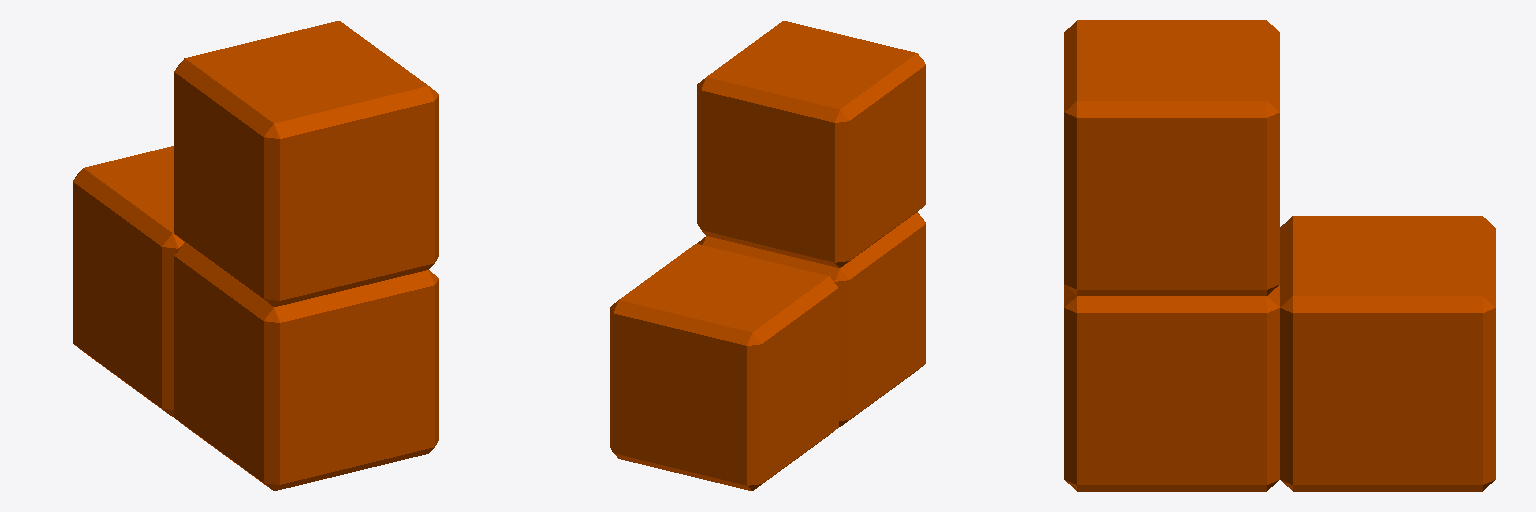
URDF robot description (obj_1):
<robot name="obj_1" version="1.0">
  <link name="obj_1_link">
    <collision name="obj_1-collision.001">
      <origin rpy="0.00000 -1.57080 0.00000" xyz="-0.43492 0.23919 0.06442"/>
      <geometry>
        <mesh filename="../meshes/obj/obj_1-collision.016.obj" scale="1.00000 1.00000 1.00000"/>
      </geometry>
    </collision>
    <collision name="obj_1-collision.002">
      <origin rpy="0.00000 -1.57080 0.00000" xyz="-0.43492 0.11419 0.06442"/>
      <geometry>
        <mesh filename="../meshes/obj/obj_1-collision.017.obj" scale="1.00000 1.00000 1.00000"/>
      </geometry>
    </collision>
    <collision name="obj_1-collision.003">
      <origin rpy="1.57080 0.00000 -3.14159" xyz="-0.37242 0.30169 0.06442"/>
      <geometry>
        <mesh filename="../meshes/obj/obj_1-collision.018.obj" scale="1.00000 1.00000 1.00000"/>
      </geometry>
    </collision>
    <collision name="obj_1-collision.004">
      <origin rpy="-1.57080 0.00000 3.14159" xyz="-0.37242 0.05169 0.06442"/>
      <geometry>
        <mesh filename="../meshes/obj/obj_1-collision.019.obj" scale="1.00000 1.00000 1.00000"/>
      </geometry>
    </collision>
    <collision name="obj_1-collision.005">
      <origin rpy="-0.00000 1.57080 0.00000" xyz="-0.30992 0.11419 0.06442"/>
      <geometry>
        <mesh filename="../meshes/obj/obj_1-collision.020.obj" scale="1.00000 1.00000 1.00000"/>
      </geometry>
    </collision>
    <collision name="obj_1-collision.006">
      <origin rpy="-0.00000 1.57080 0.00000" xyz="-0.30992 0.23919 0.06442"/>
      <geometry>
        <mesh filename="../meshes/obj/obj_1-collision.021.obj" scale="1.00000 1.00000 1.00000"/>
      </geometry>
    </collision>
    <collision name="obj_1-collision.007">
      <origin rpy="-3.14159 0.00000 -1.57080" xyz="-0.37242 0.23919 0.00192"/>
      <geometry>
        <mesh filename="../meshes/obj/obj_1-collision.022.obj" scale="1.00000 1.00000 1.00000"/>
      </geometry>
    </collision>
    <collision name="obj_1-collision.008">
      <origin rpy="-3.14159 0.00000 -1.57080" xyz="-0.37242 0.11419 0.00192"/>
      <geometry>
        <mesh filename="../meshes/obj/obj_1-collision.023.obj" scale="1.00000 1.00000 1.00000"/>
      </geometry>
    </collision>
    <collision name="obj_1-collision.009">
      <origin rpy="-0.00000 0.00000 1.57080" xyz="-0.37242 0.23919 0.12692"/>
      <geometry>
        <mesh filename="../meshes/obj/obj_1-collision.024.obj" scale="1.00000 1.00000 1.00000"/>
      </geometry>
    </collision>
    <collision name="obj_1-collision.010">
      <origin rpy="-0.78540 -0.00000 1.57080" xyz="-0.43117 0.23919 0.12317"/>
      <geometry>
        <mesh filename="../meshes/obj/obj_1-collision.025.obj" scale="1.00000 1.00000 1.00000"/>
      </geometry>
    </collision>
    <collision name="obj_1-collision.011">
      <origin rpy="-0.00000 0.78540 1.57080" xyz="-0.37242 0.29794 0.12317"/>
      <geometry>
        <mesh filename="../meshes/obj/obj_1-collision.026.obj" scale="1.00000 1.00000 1.00000"/>
      </geometry>
    </collision>
    <collision name="obj_1-collision.012">
      <origin rpy="0.78540 0.00000 1.57080" xyz="-0.31367 0.23919 0.12317"/>
      <geometry>
        <mesh filename="../meshes/obj/obj_1-collision.027.obj" scale="1.00000 1.00000 1.00000"/>
      </geometry>
    </collision>
    <collision name="obj_1-collision.013">
      <origin rpy="-0.00000 -0.78540 1.57080" xyz="-0.37242 0.18044 0.12317"/>
      <geometry>
        <mesh filename="../meshes/obj/obj_1-collision.028.obj" scale="1.00000 1.00000 1.00000"/>
      </geometry>
    </collision>
    <collision name="obj_1-collision.014">
      <origin rpy="-1.57080 0.00000 -2.35619" xyz="-0.31367 0.18044 0.06442"/>
      <geometry>
        <mesh filename="../meshes/obj/obj_1-collision.029.obj" scale="1.00000 1.00000 1.00000"/>
      </geometry>
    </collision>
    <collision name="obj_1-collision.015">
      <origin rpy="1.57080 0.00000 2.35619" xyz="-0.31367 0.29794 0.06442"/>
      <geometry>
        <mesh filename="../meshes/obj/obj_1-collision.030.obj" scale="1.00000 1.00000 1.00000"/>
      </geometry>
    </collision>
    <collision name="obj_1-collision.016">
      <origin rpy="1.57080 0.00000 -2.35619" xyz="-0.43117 0.29794 0.06442"/>
      <geometry>
        <mesh filename="../meshes/obj/obj_1-collision.031.obj" scale="1.00000 1.00000 1.00000"/>
      </geometry>
    </collision>
    <collision name="obj_1-collision.017">
      <origin rpy="-1.57080 0.00000 2.35619" xyz="-0.43117 0.18044 0.06442"/>
      <geometry>
        <mesh filename="../meshes/obj/obj_1-collision.032.obj" scale="1.00000 1.00000 1.00000"/>
      </geometry>
    </collision>
    <collision name="obj_1-collision.018">
      <origin rpy="2.35619 0.00000 -1.57080" xyz="-0.43117 0.23919 0.00567"/>
      <geometry>
        <mesh filename="../meshes/obj/obj_1-collision.033.obj" scale="1.00000 1.00000 1.00000"/>
      </geometry>
    </collision>
    <collision name="obj_1-collision.019">
      <origin rpy="-3.14159 0.78540 -1.57080" xyz="-0.37242 0.29794 0.00567"/>
      <geometry>
        <mesh filename="../meshes/obj/obj_1-collision.034.obj" scale="1.00000 1.00000 1.00000"/>
      </geometry>
    </collision>
    <collision name="obj_1-collision.020">
      <origin rpy="2.35619 -0.00000 1.57080" xyz="-0.31367 0.23919 0.00567"/>
      <geometry>
        <mesh filename="../meshes/obj/obj_1-collision.035.obj" scale="1.00000 1.00000 1.00000"/>
      </geometry>
    </collision>
    <collision name="obj_1-collision.021">
      <origin rpy="-3.14159 -0.78540 -1.57080" xyz="-0.37242 0.18044 0.00567"/>
      <geometry>
        <mesh filename="../meshes/obj/obj_1-collision.036.obj" scale="1.00000 1.00000 1.00000"/>
      </geometry>
    </collision>
    <collision name="obj_1-collision.022">
      <origin rpy="-2.35619 -0.00000 -1.57080" xyz="-0.31367 0.11419 0.00567"/>
      <geometry>
        <mesh filename="../meshes/obj/obj_1-collision.037.obj" scale="1.00000 1.00000 1.00000"/>
      </geometry>
    </collision>
    <collision name="obj_1-collision.023">
      <origin rpy="-3.14159 -0.78540 -1.57080" xyz="-0.37242 0.05544 0.00567"/>
      <geometry>
        <mesh filename="../meshes/obj/obj_1-collision.038.obj" scale="1.00000 1.00000 1.00000"/>
      </geometry>
    </collision>
    <collision name="obj_1-collision.024">
      <origin rpy="2.35619 0.00000 -1.57080" xyz="-0.43117 0.11419 0.00567"/>
      <geometry>
        <mesh filename="../meshes/obj/obj_1-collision.039.obj" scale="1.00000 1.00000 1.00000"/>
      </geometry>
    </collision>
    <collision name="obj_1-collision.025">
      <origin rpy="-3.14159 0.78540 -1.57080" xyz="-0.37242 0.17294 0.00567"/>
      <geometry>
        <mesh filename="../meshes/obj/obj_1-collision.040.obj" scale="1.00000 1.00000 1.00000"/>
      </geometry>
    </collision>
    <collision name="obj_1-collision.026">
      <origin rpy="-2.35619 1.57080 0.00000" xyz="-0.43117 0.17294 0.06442"/>
      <geometry>
        <mesh filename="../meshes/obj/obj_1-collision.041.obj" scale="1.00000 1.00000 1.00000"/>
      </geometry>
    </collision>
    <collision name="obj_1-collision.027">
      <origin rpy="-1.57080 0.00000 2.35619" xyz="-0.43117 0.05544 0.06442"/>
      <geometry>
        <mesh filename="../meshes/obj/obj_1-collision.042.obj" scale="1.00000 1.00000 1.00000"/>
      </geometry>
    </collision>
    <collision name="obj_1-collision.028">
      <origin rpy="-1.57080 0.00000 -2.35619" xyz="-0.31367 0.05544 0.06442"/>
      <geometry>
        <mesh filename="../meshes/obj/obj_1-collision.043.obj" scale="1.00000 1.00000 1.00000"/>
      </geometry>
    </collision>
    <collision name="obj_1-collision.029">
      <origin rpy="1.57080 0.00000 2.35619" xyz="-0.31367 0.17294 0.06442"/>
      <geometry>
        <mesh filename="../meshes/obj/obj_1-collision.044.obj" scale="1.00000 1.00000 1.00000"/>
      </geometry>
    </collision>
    <collision name="obj_1-collision.030">
      <origin rpy="0.78540 0.00000 1.57080" xyz="-0.31367 0.11419 0.12317"/>
      <geometry>
        <mesh filename="../meshes/obj/obj_1-collision.045.obj" scale="1.00000 1.00000 1.00000"/>
      </geometry>
    </collision>
    <collision name="obj_1-collision.031">
      <origin rpy="-0.00000 -0.78540 1.57080" xyz="-0.37242 0.05544 0.12317"/>
      <geometry>
        <mesh filename="../meshes/obj/obj_1-collision.046.obj" scale="1.00000 1.00000 1.00000"/>
      </geometry>
    </collision>
    <collision name="obj_1-collision.032">
      <origin rpy="-0.78540 -0.00000 1.57080" xyz="-0.43117 0.11419 0.12317"/>
      <geometry>
        <mesh filename="../meshes/obj/obj_1-collision.047.obj" scale="1.00000 1.00000 1.00000"/>
      </geometry>
    </collision>
    <collision name="obj_1-collision.033">
      <origin rpy="-0.00000 0.78540 1.57080" xyz="-0.37242 0.17294 0.12317"/>
      <geometry>
        <mesh filename="../meshes/obj/obj_1-collision.048.obj" scale="1.00000 1.00000 1.00000"/>
      </geometry>
    </collision>
    <collision name="obj_1-collision.034">
      <origin rpy="2.35619 0.00000 -1.57080" xyz="-0.43117 0.11419 0.13067"/>
      <geometry>
        <mesh filename="../meshes/obj/obj_1-collision.049.obj" scale="1.00000 1.00000 1.00000"/>
      </geometry>
    </collision>
    <collision name="obj_1-collision.035">
      <origin rpy="-3.14159 -0.78540 -1.57080" xyz="-0.37242 0.05544 0.13067"/>
      <geometry>
        <mesh filename="../meshes/obj/obj_1-collision.050.obj" scale="1.00000 1.00000 1.00000"/>
      </geometry>
    </collision>
    <collision name="obj_1-collision.036">
      <origin rpy="-2.35619 -0.00000 -1.57080" xyz="-0.31367 0.11419 0.13067"/>
      <geometry>
        <mesh filename="../meshes/obj/obj_1-collision.051.obj" scale="1.00000 1.00000 1.00000"/>
      </geometry>
    </collision>
    <collision name="obj_1-collision.037">
      <origin rpy="-3.14159 0.78540 -1.57080" xyz="-0.37242 0.17294 0.13067"/>
      <geometry>
        <mesh filename="../meshes/obj/obj_1-collision.052.obj" scale="1.00000 1.00000 1.00000"/>
      </geometry>
    </collision>
    <collision name="obj_1-collision.038">
      <origin rpy="0.00000 -1.57080 0.00000" xyz="-0.43492 0.11419 0.18942"/>
      <geometry>
        <mesh filename="../meshes/obj/obj_1-collision.053.obj" scale="1.00000 1.00000 1.00000"/>
      </geometry>
    </collision>
    <collision name="obj_1-collision.039">
      <origin rpy="-1.57080 0.00000 3.14159" xyz="-0.37242 0.05169 0.18942"/>
      <geometry>
        <mesh filename="../meshes/obj/obj_1-collision.054.obj" scale="1.00000 1.00000 1.00000"/>
      </geometry>
    </collision>
    <collision name="obj_1-collision.040">
      <origin rpy="-0.00000 1.57080 0.00000" xyz="-0.30992 0.11419 0.18942"/>
      <geometry>
        <mesh filename="../meshes/obj/obj_1-collision.055.obj" scale="1.00000 1.00000 1.00000"/>
      </geometry>
    </collision>
    <collision name="obj_1-collision.041">
      <origin rpy="1.57080 0.00000 -3.14159" xyz="-0.37242 0.17669 0.18942"/>
      <geometry>
        <mesh filename="../meshes/obj/obj_1-collision.056.obj" scale="1.00000 1.00000 1.00000"/>
      </geometry>
    </collision>
    <collision name="obj_1-collision.042">
      <origin rpy="-0.00000 0.00000 1.57080" xyz="-0.37242 0.11419 0.25192"/>
      <geometry>
        <mesh filename="../meshes/obj/obj_1-collision.057.obj" scale="1.00000 1.00000 1.00000"/>
      </geometry>
    </collision>
    <collision name="obj_1-collision.043">
      <origin rpy="-1.57080 -0.00000 -0.78540" xyz="-0.31367 0.17294 0.18942"/>
      <geometry>
        <mesh filename="../meshes/obj/obj_1-collision.058.obj" scale="1.00000 1.00000 1.00000"/>
      </geometry>
    </collision>
    <collision name="obj_1-collision.044">
      <origin rpy="1.57080 0.00000 -2.35619" xyz="-0.43117 0.17294 0.18942"/>
      <geometry>
        <mesh filename="../meshes/obj/obj_1-collision.059.obj" scale="1.00000 1.00000 1.00000"/>
      </geometry>
    </collision>
    <collision name="obj_1-collision.045">
      <origin rpy="-1.57080 0.00000 2.35619" xyz="-0.43117 0.05544 0.18942"/>
      <geometry>
        <mesh filename="../meshes/obj/obj_1-collision.060.obj" scale="1.00000 1.00000 1.00000"/>
      </geometry>
    </collision>
    <collision name="obj_1-collision.046">
      <origin rpy="-1.57080 0.00000 -2.35619" xyz="-0.31367 0.05544 0.18942"/>
      <geometry>
        <mesh filename="../meshes/obj/obj_1-collision.061.obj" scale="1.00000 1.00000 1.00000"/>
      </geometry>
    </collision>
    <collision name="obj_1-collision.047">
      <origin rpy="-0.00000 0.78540 1.57080" xyz="-0.37242 0.17294 0.24817"/>
      <geometry>
        <mesh filename="../meshes/obj/obj_1-collision.062.obj" scale="1.00000 1.00000 1.00000"/>
      </geometry>
    </collision>
    <collision name="obj_1-collision.048">
      <origin rpy="-0.78540 -0.00000 1.57080" xyz="-0.43117 0.11419 0.24817"/>
      <geometry>
        <mesh filename="../meshes/obj/obj_1-collision.063.obj" scale="1.00000 1.00000 1.00000"/>
      </geometry>
    </collision>
    <collision name="obj_1-collision.049">
      <origin rpy="-0.00000 -0.78540 1.57080" xyz="-0.37242 0.05544 0.24817"/>
      <geometry>
        <mesh filename="../meshes/obj/obj_1-collision.064.obj" scale="1.00000 1.00000 1.00000"/>
      </geometry>
    </collision>
    <collision name="obj_1-collision.050">
      <origin rpy="0.78540 0.00000 1.57080" xyz="-0.31367 0.11419 0.24817"/>
      <geometry>
        <mesh filename="../meshes/obj/obj_1-collision.065.obj" scale="1.00000 1.00000 1.00000"/>
      </geometry>
    </collision>
    <collision name="obj_1-collision.051">
      <origin rpy="0.00000 -1.57080 0.00000" xyz="-0.37242 0.15716 0.10739"/>
      <geometry>
        <mesh filename="../meshes/obj/obj_1-collision.066.obj" scale="0.00500 0.00500 0.00500"/>
      </geometry>
    </collision>
    <collision name="obj_1-collision.052">
      <origin rpy="0.00000 -1.57080 0.00000" xyz="-0.37242 0.15716 0.10739"/>
      <geometry>
        <mesh filename="../meshes/obj/obj_1-collision.067.obj" scale="0.00500 0.00500 0.00500"/>
      </geometry>
    </collision>
    <collision name="obj_1-collision.053">
      <origin rpy="0.00000 -1.57080 0.00000" xyz="-0.37242 0.15716 0.10739"/>
      <geometry>
        <mesh filename="../meshes/obj/obj_1-collision.068.obj" scale="0.00500 0.00500 0.00500"/>
      </geometry>
    </collision>
    <collision name="obj_1-collision.054">
      <origin rpy="0.00000 -1.57080 0.00000" xyz="-0.37242 0.15716 0.10739"/>
      <geometry>
        <mesh filename="../meshes/obj/obj_1-collision.069.obj" scale="0.00500 0.00500 0.00500"/>
      </geometry>
    </collision>
    <collision name="obj_1-collision.055">
      <origin rpy="0.00000 -1.57080 0.00000" xyz="-0.37242 0.15716 0.10739"/>
      <geometry>
        <mesh filename="../meshes/obj/obj_1-collision.070.obj" scale="0.00500 0.00500 0.00500"/>
      </geometry>
    </collision>
    <collision name="obj_1-collision.056">
      <origin rpy="0.00000 -1.57080 0.00000" xyz="-0.37242 0.15716 0.10739"/>
      <geometry>
        <mesh filename="../meshes/obj/obj_1-collision.071.obj" scale="0.00500 0.00500 0.00500"/>
      </geometry>
    </collision>
    <collision name="obj_1-collision.057">
      <origin rpy="0.00000 -1.57080 0.00000" xyz="-0.37242 0.15716 0.10739"/>
      <geometry>
        <mesh filename="../meshes/obj/obj_1-collision.072.obj" scale="0.00500 0.00500 0.00500"/>
      </geometry>
    </collision>
    <collision name="obj_1-collision.058">
      <origin rpy="0.00000 -1.57080 0.00000" xyz="-0.37242 0.15716 0.10739"/>
      <geometry>
        <mesh filename="../meshes/obj/obj_1-collision.073.obj" scale="0.00500 0.00500 0.00500"/>
      </geometry>
    </collision>
    <collision name="obj_1-collision.059">
      <origin rpy="0.00000 -1.57080 0.00000" xyz="-0.37242 0.15716 0.10739"/>
      <geometry>
        <mesh filename="../meshes/obj/obj_1-collision.074.obj" scale="0.00500 0.00500 0.00500"/>
      </geometry>
    </collision>
    <collision name="obj_1-collision.060">
      <origin rpy="0.00000 -1.57080 0.00000" xyz="-0.37242 0.15716 0.10739"/>
      <geometry>
        <mesh filename="../meshes/obj/obj_1-collision.075.obj" scale="0.00500 0.00500 0.00500"/>
      </geometry>
    </collision>
    <collision name="obj_1-collision.061">
      <origin rpy="0.00000 -1.57080 0.00000" xyz="-0.37242 0.15716 0.10739"/>
      <geometry>
        <mesh filename="../meshes/obj/obj_1-collision.076.obj" scale="0.00500 0.00500 0.00500"/>
      </geometry>
    </collision>
    <collision name="obj_1-collision.062">
      <origin rpy="0.00000 -1.57080 0.00000" xyz="-0.37242 0.15716 0.10739"/>
      <geometry>
        <mesh filename="../meshes/obj/obj_1-collision.077.obj" scale="0.00500 0.00500 0.00500"/>
      </geometry>
    </collision>
    <collision name="obj_1-collision.063">
      <origin rpy="0.00000 -1.57080 0.00000" xyz="-0.37242 0.15716 0.10739"/>
      <geometry>
        <mesh filename="../meshes/obj/obj_1-collision.078.obj" scale="0.00500 0.00500 0.00500"/>
      </geometry>
    </collision>
    <collision name="obj_1-collision.064">
      <origin rpy="0.00000 -1.57080 0.00000" xyz="-0.37242 0.15716 0.10739"/>
      <geometry>
        <mesh filename="../meshes/obj/obj_1-collision.079.obj" scale="0.00500 0.00500 0.00500"/>
      </geometry>
    </collision>
    <collision name="obj_1-collision.065">
      <origin rpy="0.00000 -1.57080 0.00000" xyz="-0.37242 0.15716 0.10739"/>
      <geometry>
        <mesh filename="../meshes/obj/obj_1-collision.080.obj" scale="0.00500 0.00500 0.00500"/>
      </geometry>
    </collision>
    <collision name="obj_1-collision.066">
      <origin rpy="0.00000 -1.57080 0.00000" xyz="-0.37242 0.15716 0.10739"/>
      <geometry>
        <mesh filename="../meshes/obj/obj_1-collision.081.obj" scale="0.00500 0.00500 0.00500"/>
      </geometry>
    </collision>
    <collision name="obj_1-collision.067">
      <origin rpy="0.00000 -1.57080 0.00000" xyz="-0.37242 0.15716 0.10739"/>
      <geometry>
        <mesh filename="../meshes/obj/obj_1-collision.082.obj" scale="0.00500 0.00500 0.00500"/>
      </geometry>
    </collision>
    <collision name="obj_1-collision.068">
      <origin rpy="0.00000 -1.57080 0.00000" xyz="-0.37242 0.15716 0.10739"/>
      <geometry>
        <mesh filename="../meshes/obj/obj_1-collision.083.obj" scale="0.00500 0.00500 0.00500"/>
      </geometry>
    </collision>
    <collision name="obj_1-collision.069">
      <origin rpy="0.00000 -1.57080 0.00000" xyz="-0.37242 0.15716 0.10739"/>
      <geometry>
        <mesh filename="../meshes/obj/obj_1-collision.084.obj" scale="0.00500 0.00500 0.00500"/>
      </geometry>
    </collision>
    <collision name="obj_1-collision.070">
      <origin rpy="0.00000 -1.57080 0.00000" xyz="-0.37242 0.15716 0.10739"/>
      <geometry>
        <mesh filename="../meshes/obj/obj_1-collision.085.obj" scale="0.00500 0.00500 0.00500"/>
      </geometry>
    </collision>
    <collision name="obj_1-collision.071">
      <origin rpy="0.00000 -1.57080 0.00000" xyz="-0.37242 0.15716 0.10739"/>
      <geometry>
        <mesh filename="../meshes/obj/obj_1-collision.086.obj" scale="0.00500 0.00500 0.00500"/>
      </geometry>
    </collision>
    <collision name="obj_1-collision.072">
      <origin rpy="0.00000 -1.57080 0.00000" xyz="-0.37242 0.15716 0.10739"/>
      <geometry>
        <mesh filename="../meshes/obj/obj_1-collision.087.obj" scale="0.00500 0.00500 0.00500"/>
      </geometry>
    </collision>
    <collision name="obj_1-collision.073">
      <origin rpy="0.00000 -1.57080 0.00000" xyz="-0.37242 0.15716 0.10739"/>
      <geometry>
        <mesh filename="../meshes/obj/obj_1-collision.088.obj" scale="0.00500 0.00500 0.00500"/>
      </geometry>
    </collision>
    <collision name="obj_1-collision.074">
      <origin rpy="0.00000 -1.57080 0.00000" xyz="-0.37242 0.15716 0.10739"/>
      <geometry>
        <mesh filename="../meshes/obj/obj_1-collision.089.obj" scale="0.00500 0.00500 0.00500"/>
      </geometry>
    </collision>
    <inertial>
      <inertia ixx="0.00047" ixy="0.00000" ixz="-0.00000" iyy="0.00030" iyz="0.00009" izz="0.00030"/>
      <origin rpy="0.00000 0.00000 0.00000" xyz="-0.37242 0.15586 0.10609"/>
      <mass value="0.05000"/>
    </inertial>
    <visual name="obj_1">
      <material name="turnarraw_orange"/>
      <origin rpy="0.00000 -1.57080 0.00000" xyz="-0.37242 0.15716 0.10739"/>
      <geometry>
        <mesh filename="../meshes/obj/bt_cube3x3_bricks.obj" scale="0.00500 0.00500 0.00500"/>
      </geometry>
    </visual>
  </link>
  <material name="turnarraw_orange">
    <color rgba="0.78824 0.34510 0.00000 1.00000"/>
  </material>
</robot>

--- Render facts (derived) ---
3 views of the same robot in one strip: view 1: azimuth 30°, elevation 25°; view 2: azimuth 150°, elevation 25°; view 3: azimuth 270°, elevation 25° (orthographic).
Robot: obj_1 — 1 links, 0 joints (none); root link obj_1_link; default pose: all joints at 0.
Visible links, largest first — view 1: obj_1_link; view 2: obj_1_link; view 3: obj_1_link.
Boxes of the visible links, box(x1,y1,x2,y2) form: obj_1_link: box(73, 21, 438, 490); obj_1_link: box(610, 21, 925, 490); obj_1_link: box(1064, 20, 1495, 491).
Bounding box of the posed robot: 0.125 × 0.25 × 0.25 m (x, y, z).
Meshes: 1 distinct files referenced, 1 mesh visuals loaded (1 OBJ).